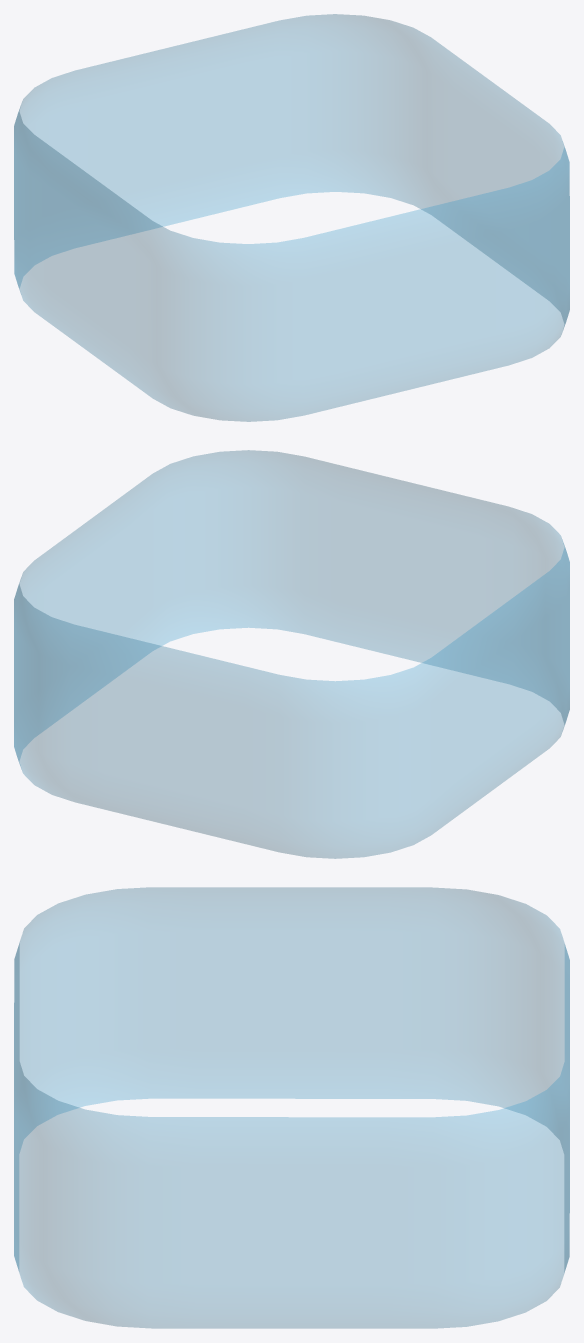
The model's file is p_emissionmesh_rewardlocker_shatterglass.fbx.
3 views of the same model, one above another, from view 1: azimuth 30°, elevation 25°; view 2: azimuth 150°, elevation 25°; view 3: azimuth 270°, elevation 25° (orthographic). The views are drawn at different scales.
Parts seen in each view (by area): view 1: Cube.004; view 2: Cube.004; view 3: Cube.004.
Part boxes in pixels (<box>): Cube.004: <box>14,14,569,421</box>; Cube.004: <box>14,450,569,858</box>; Cube.004: <box>14,887,569,1328</box>.
Bounding box in the file's own units: 5.97 × 2.51 × 5.97.
